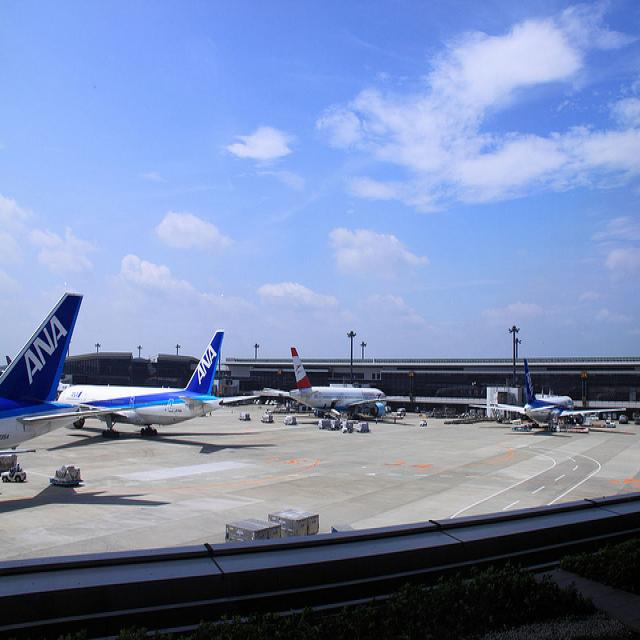Vehicle: (49, 464, 83, 486), (1, 462, 27, 482), (283, 416, 296, 425), (396, 408, 406, 416), (419, 419, 427, 426), (634, 418, 640, 425)
